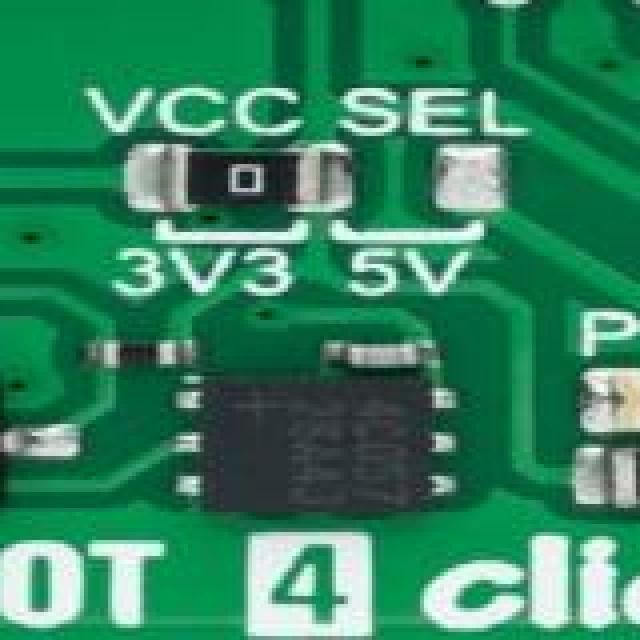IC: (188, 376, 464, 514)
LED: (588, 372, 640, 436)
capacitor: (336, 340, 446, 368)
resistor: (148, 148, 336, 216), (84, 340, 176, 370), (604, 452, 640, 528)
transistor: (0, 388, 64, 520)
